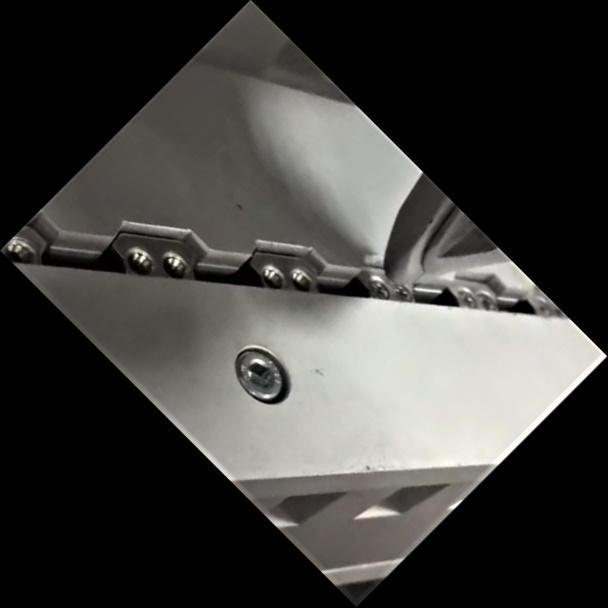hole: (116, 240, 162, 286), (154, 244, 195, 285), (252, 259, 292, 298), (283, 261, 319, 298)
